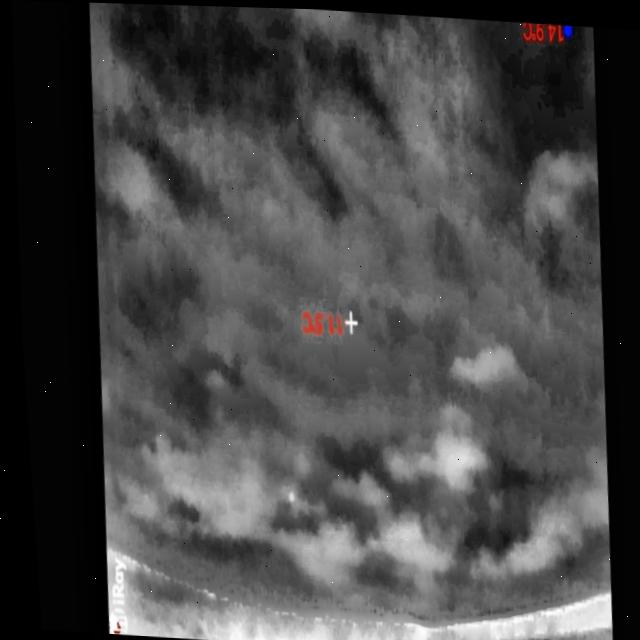drone: (280, 486, 292, 503)
